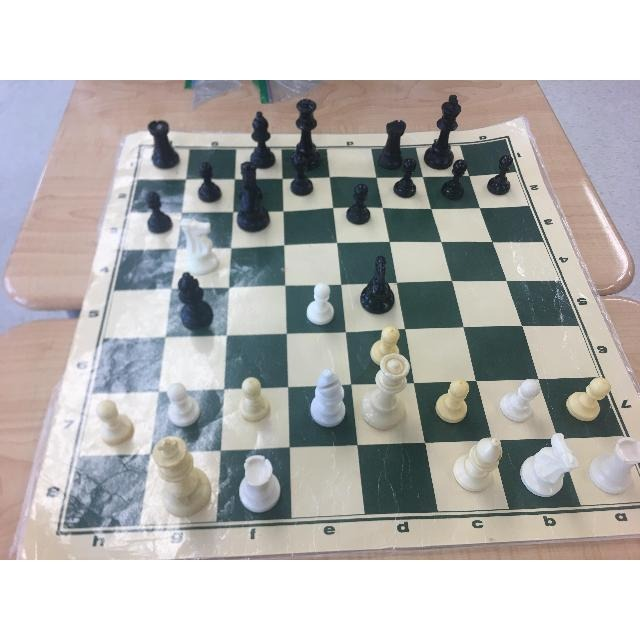black-bishop: (172, 270, 220, 329), (243, 100, 283, 167)
black-king: (430, 93, 466, 165)
black-knight: (356, 247, 403, 313), (231, 163, 271, 227)
black-pawn: (337, 185, 387, 228), (391, 152, 431, 204), (485, 159, 527, 201), (282, 151, 315, 197), (137, 188, 175, 226), (442, 156, 472, 199), (191, 158, 219, 197)
black-queen: (287, 95, 327, 158)
black-rook: (142, 112, 184, 166), (376, 113, 412, 165)
white-bishop: (303, 367, 356, 439), (455, 433, 506, 491)
white-king: (147, 432, 207, 514)
white-knight: (519, 429, 579, 497), (174, 214, 225, 277)
white-pawn: (84, 386, 136, 448), (231, 368, 280, 428), (431, 372, 483, 428), (156, 371, 205, 422), (561, 370, 610, 419), (497, 373, 546, 417), (296, 281, 338, 327), (370, 327, 403, 352)
white-queen: (359, 347, 416, 444)
white-rook: (594, 431, 640, 501), (234, 450, 283, 510)
